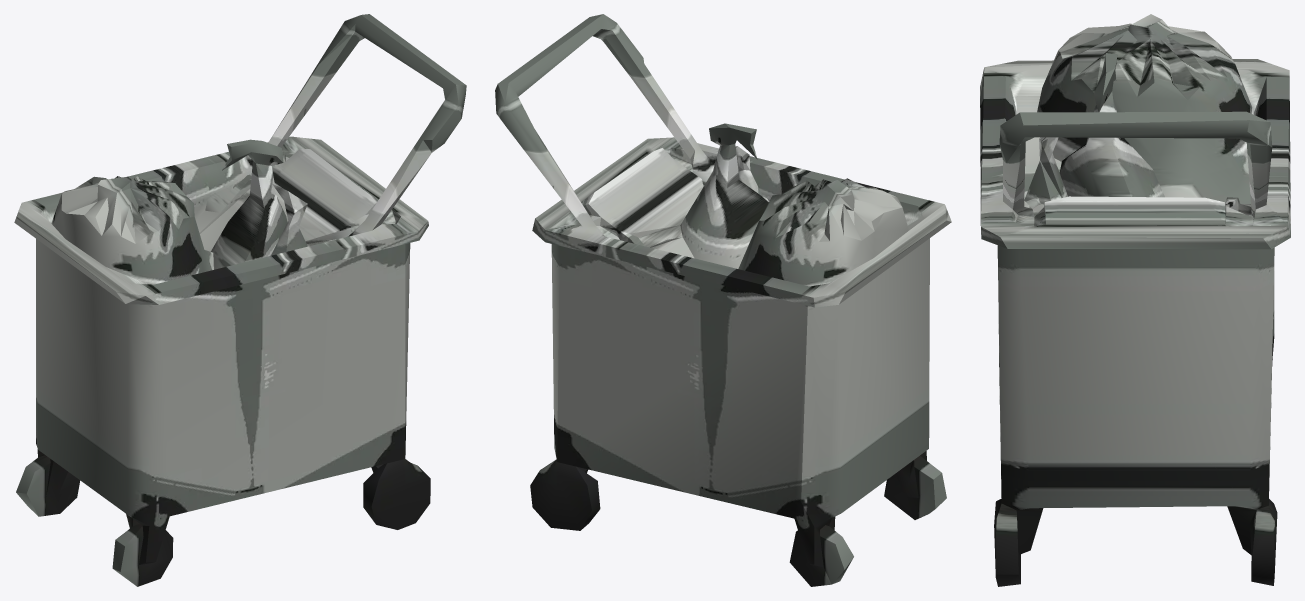
The picture shows the model from 3 angles, left to right: view 1: azimuth 30°, elevation 25°; view 2: azimuth 150°, elevation 25°; view 3: azimuth 270°, elevation 25°; orthographic projection. The views are drawn at different scales.
Visible parts, largest first — view 1: Decor_janitor_cart_b; view 2: Decor_janitor_cart_b; view 3: Decor_janitor_cart_b.
Boxes of the visible parts, x1,y1,x2,y2 form: Decor_janitor_cart_b: (14, 14, 466, 586); Decor_janitor_cart_b: (495, 14, 951, 586); Decor_janitor_cart_b: (980, 14, 1290, 586).
Bounding box in the file's own units: 0.962 × 1.1 × 0.6102.
1 material, 1 textured.
